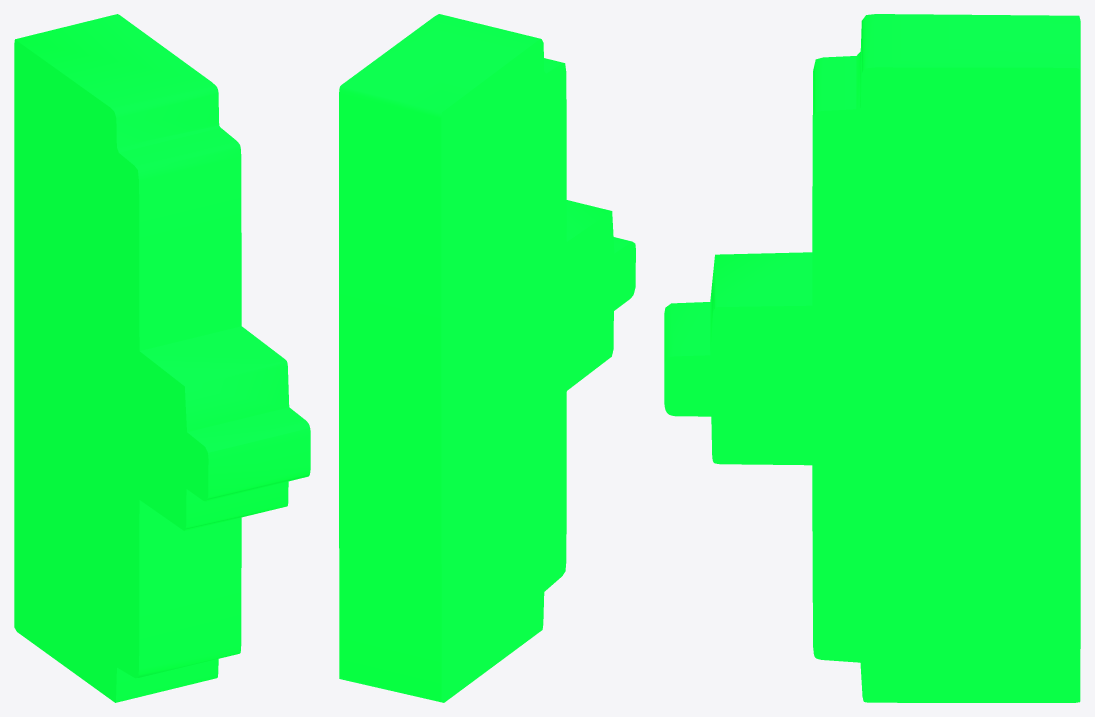
File: player.fbx
3 views of the same model, side by side, from view 1: azimuth 30°, elevation 25°; view 2: azimuth 150°, elevation 25°; view 3: azimuth 270°, elevation 25° (orthographic). The views are drawn at different scales.
Visible parts, largest first — view 1: player; view 2: player; view 3: player.
Boxes of the visible parts, left/top/right/bottom form: player: left=14, top=14, right=310, bottom=702; player: left=339, top=14, right=635, bottom=702; player: left=664, top=14, right=1080, bottom=702.
Bounding box in the file's own units: 9.83 × 54.47 × 32.36.
